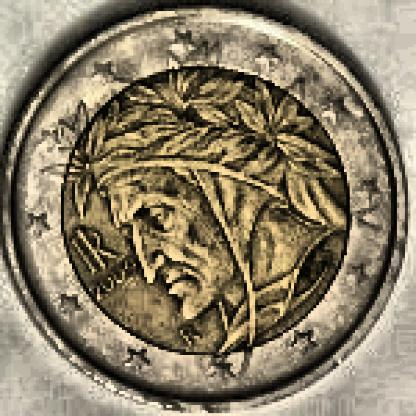coin: (0, 0, 408, 413)
